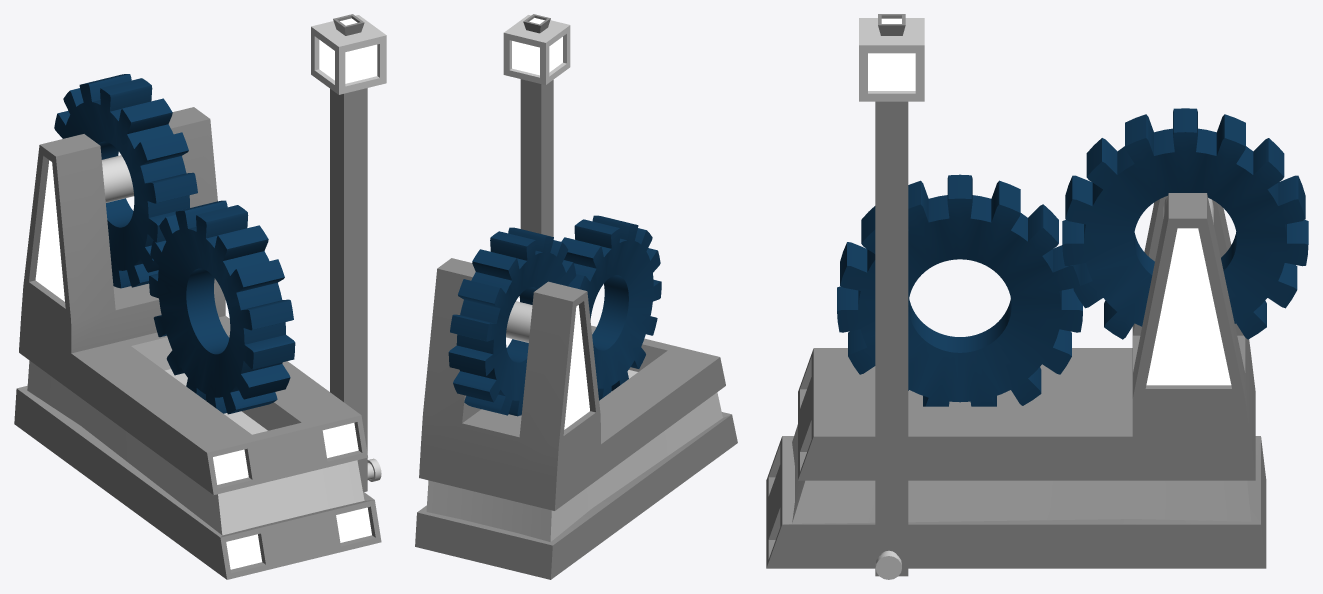
Rendered from Palanca.fbx.
3 renders of one model, left to right at view 1: azimuth 30°, elevation 25°; view 2: azimuth 150°, elevation 25°; view 3: azimuth 270°, elevation 25°, orthographic. The views are drawn at different scales.
Parts seen in each view (by area): view 1: Cylinder, Gear.001, Cube.001, Gear.002; view 2: Cylinder, Gear.002, Gear.001, Cube.001; view 3: Cylinder, Gear.002, Gear.001, Cube.001.
Part boxes in pixels (box(x1,y1,x2,y2)): Cylinder: box(14, 107, 381, 579); Gear.001: box(149, 200, 295, 414); Cube.001: box(311, 14, 386, 491); Gear.002: box(54, 74, 197, 288); Cylinder: box(415, 258, 737, 579); Gear.002: box(448, 227, 576, 416); Gear.001: box(561, 215, 661, 400); Cube.001: box(503, 14, 570, 236); Cylinder: box(766, 193, 1266, 579); Gear.002: box(1062, 108, 1308, 339); Gear.001: box(837, 174, 1082, 406); Cube.001: box(859, 14, 924, 576).
Size of the model in its own units: 0.4339 by 0.9855 by 0.8634.
